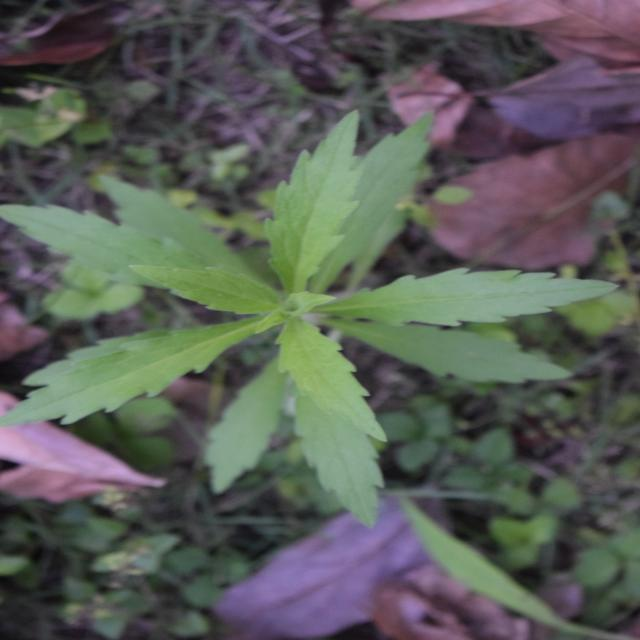horseweed: (172, 40, 511, 535)
